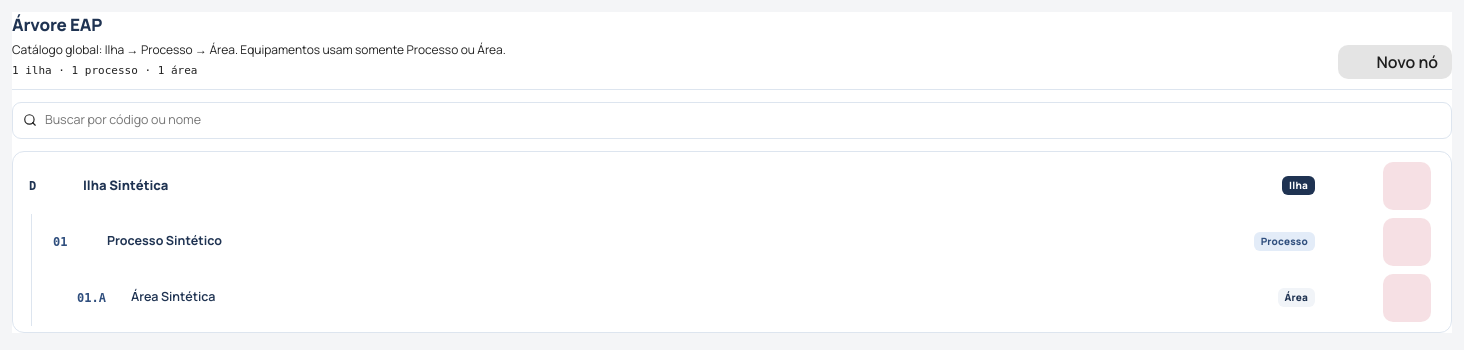
it: EapTreeAdmin › busca por código ou nome mantendo os ancestrais do nó encontrado
In the search field named "Buscar na Árvore EAP": coordinates (743, 120) x1=45 y1=103 x2=1441 y2=138, type "01.a"
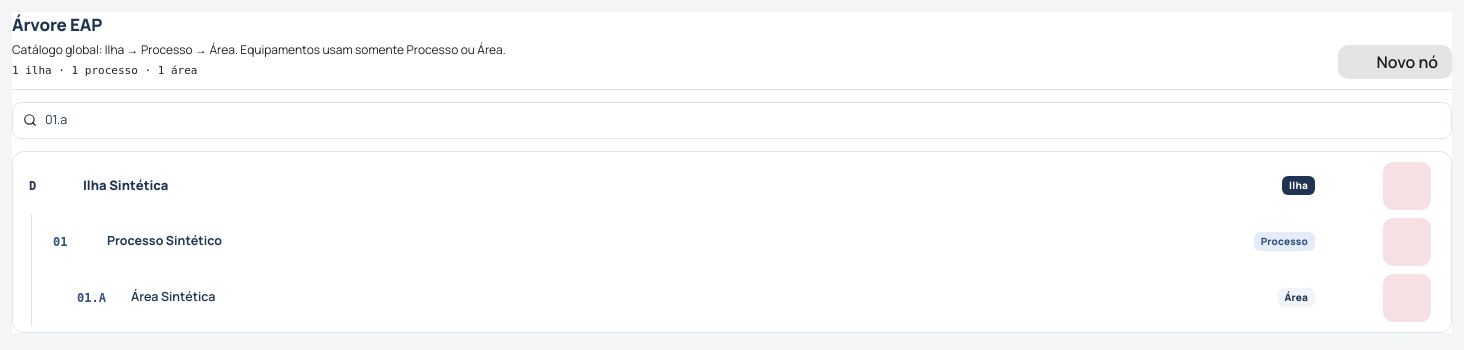
Replace the text in the search field named "Buscar na Árvore EAP" with "processo": coordinates (743, 120) x1=45 y1=103 x2=1441 y2=138
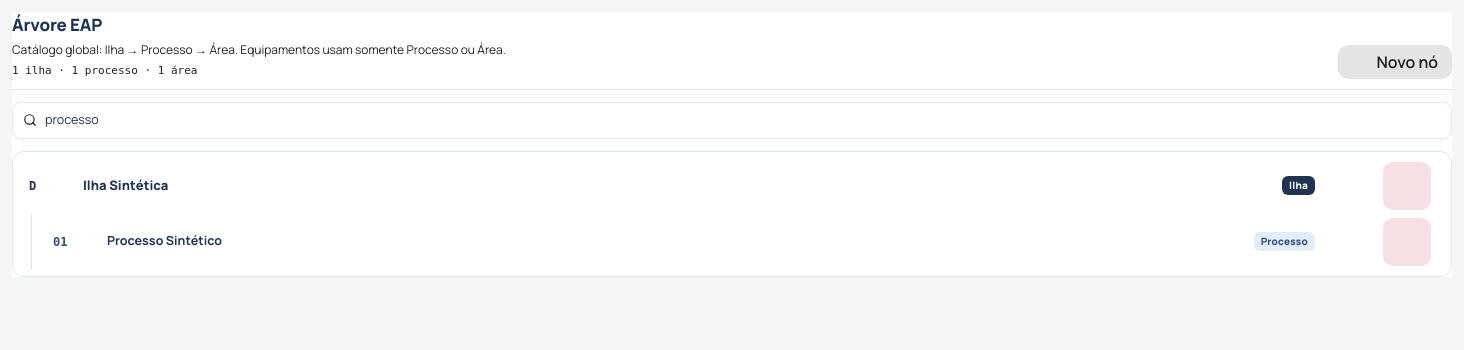
Replace the text in the search field named "Buscar na Árvore EAP" with "inexistente": coordinates (743, 120) x1=45 y1=103 x2=1441 y2=138
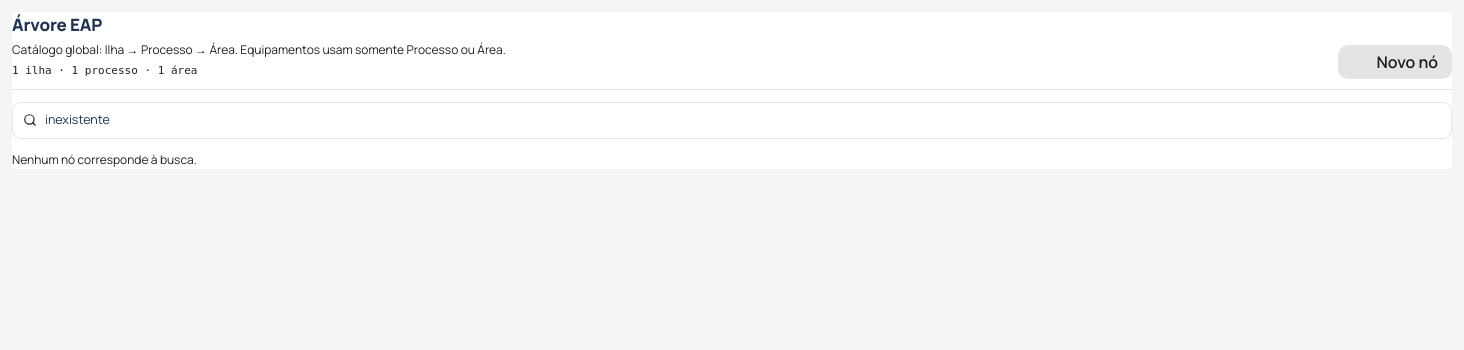
Expected: no list items are shown
Expected: the text "Nenhum nó corresponde à busca." is shown, x1=12 y1=151 x2=197 y2=168
